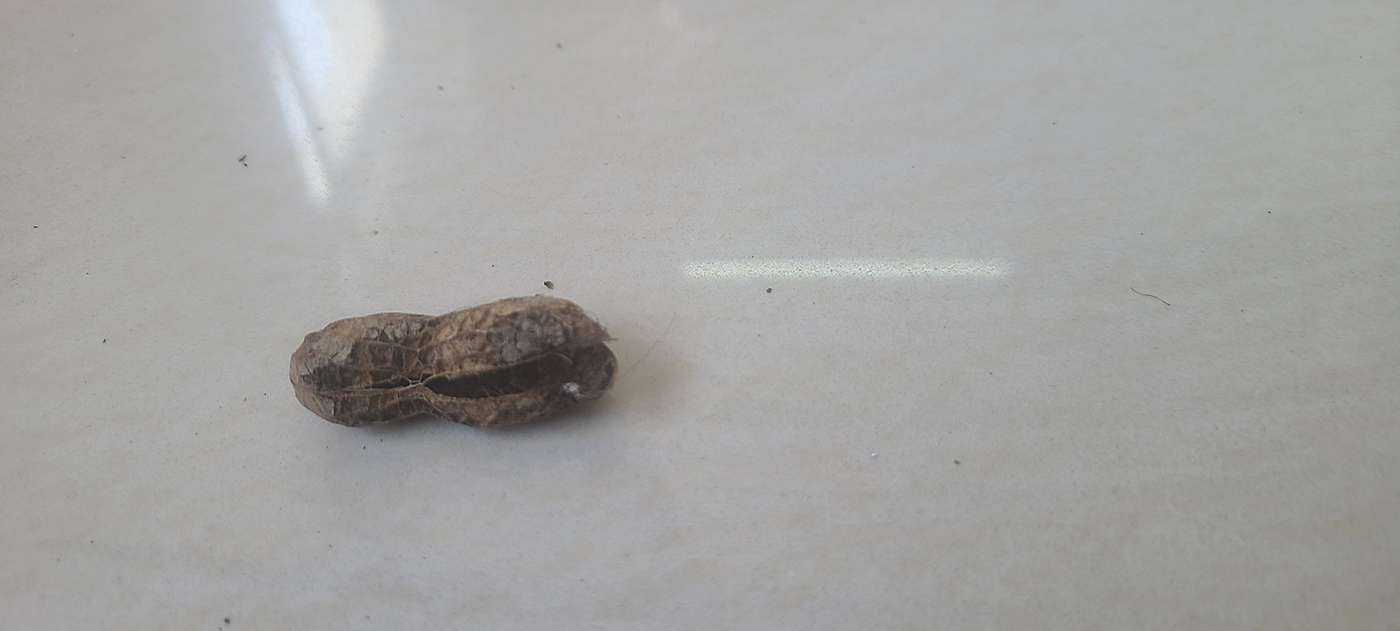l: (285, 293, 619, 430)
